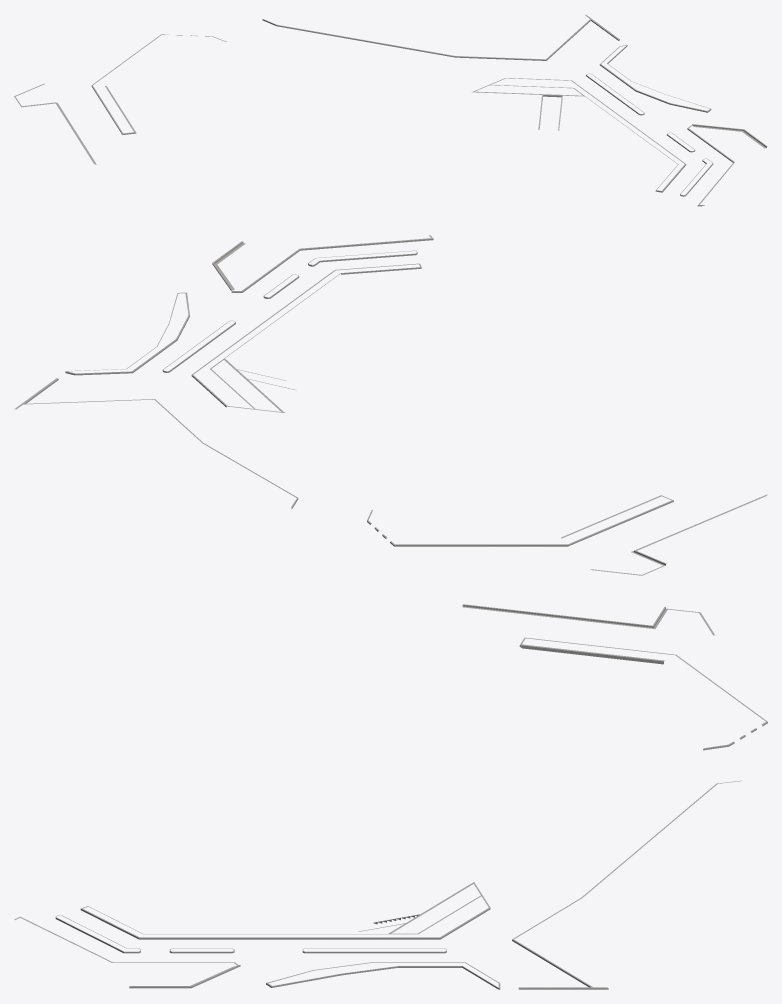
File: kd_stage_135ebf_2_3.glb
3 views of the same model, one above another, from view 1: azimuth 30°, elevation 25°; view 2: azimuth 150°, elevation 25°; view 3: azimuth 270°, elevation 25° (orthographic). The views are drawn at different scales.
Parts seen in each view (by area): view 1: kd_stage_135ebf_2_3; view 2: kd_stage_135ebf_2_3; view 3: kd_stage_135ebf_2_3.
Boxes of the visible parts, x1,y1,x2,y2 form: kd_stage_135ebf_2_3: (14, 15, 767, 206); kd_stage_135ebf_2_3: (14, 235, 767, 575); kd_stage_135ebf_2_3: (14, 604, 767, 989).
Bounding box in the file's own units: 102 × 7.4 × 92.5.
1 material, 1 textured.
